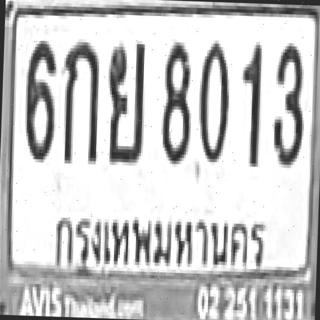A01: (60, 38, 100, 161)
A34: (104, 38, 144, 161)
N00: (195, 40, 229, 159)
N01: (238, 41, 260, 163)
N03: (269, 39, 305, 165)
N06: (21, 37, 55, 160)
N08: (160, 38, 192, 161)
P04: (42, 199, 273, 284)
